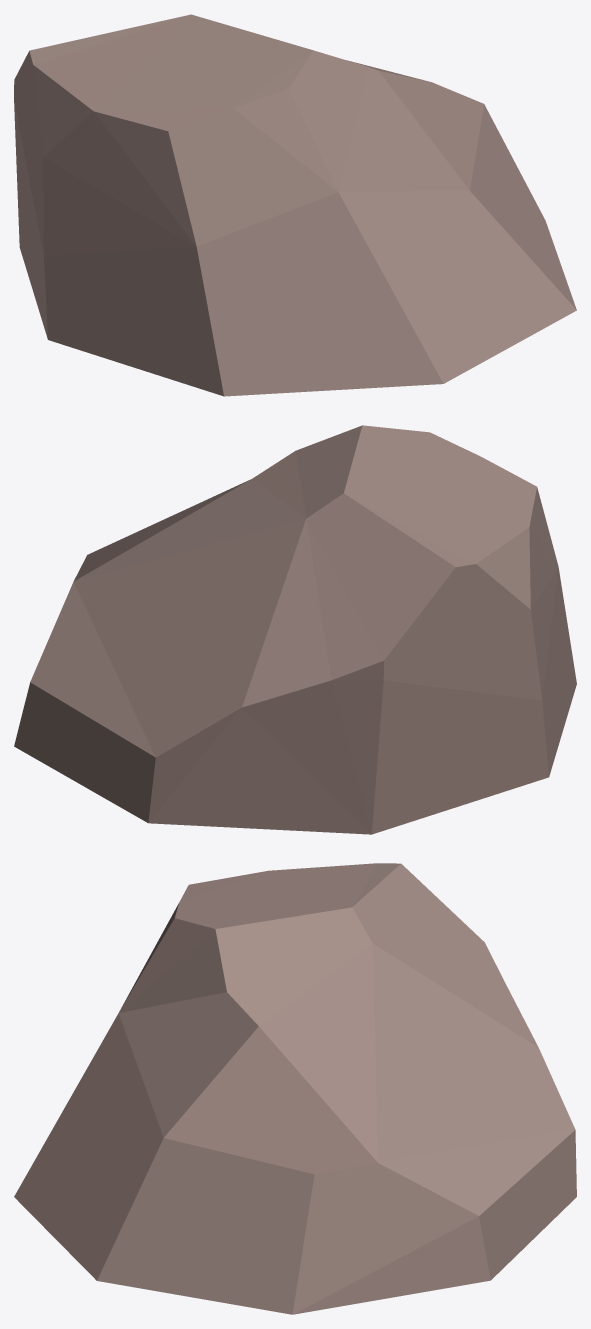
Rendered from Rock_14.fbx.
The picture shows the model from 3 angles, top to bottom: view 1: azimuth 30°, elevation 25°; view 2: azimuth 150°, elevation 25°; view 3: azimuth 270°, elevation 25°; orthographic projection. The views are drawn at different scales.
Parts seen in each view (by area): view 1: Rock_14; view 2: Rock_14; view 3: Rock_14.
Part boxes in pixels (bbox=[...]): Rock_14: bbox=[14, 14, 576, 396]; Rock_14: bbox=[14, 425, 576, 834]; Rock_14: bbox=[14, 863, 576, 1314].
Size of the model in its own units: 6.87 by 3.51 by 6.96.
